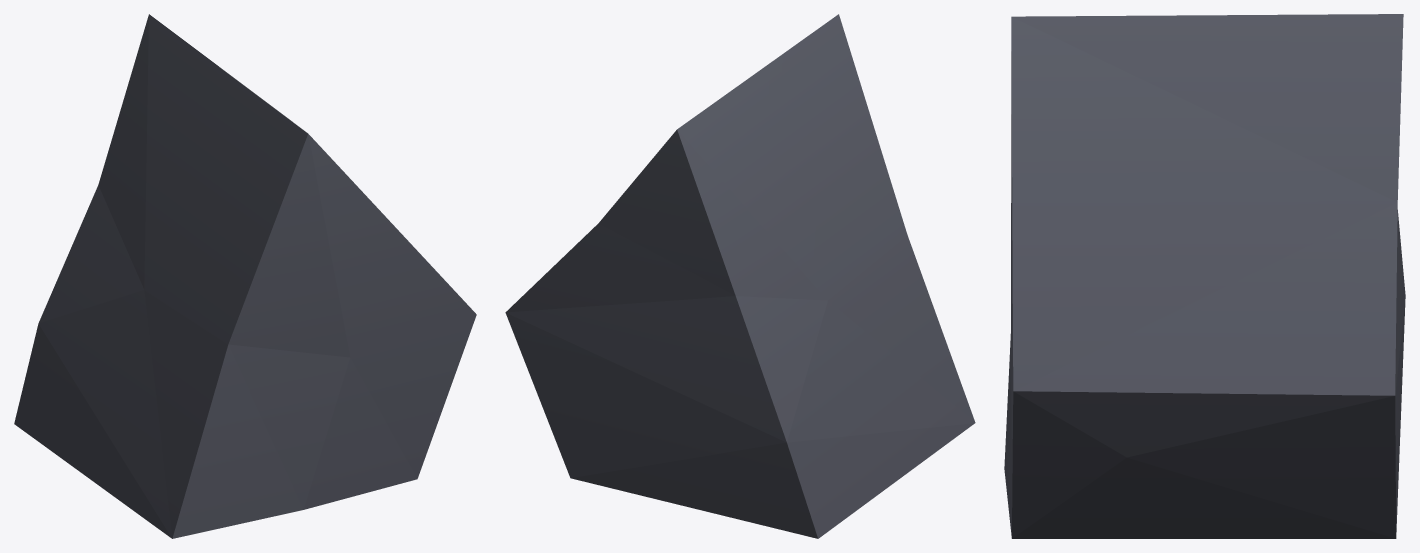
The model's file is Ruins_04.fbx.
3 renders of one model, left to right at view 1: azimuth 30°, elevation 25°; view 2: azimuth 150°, elevation 25°; view 3: azimuth 270°, elevation 25°, orthographic. The views are drawn at different scales.
Visible parts, largest first — view 1: Ruins_04; view 2: Ruins_04; view 3: Ruins_04.
Boxes of the visible parts, x1,y1,x2,y2 form: Ruins_04: (14,14,476,538); Ruins_04: (505,14,975,538); Ruins_04: (1004,14,1405,538).
Bounding box in the file's own units: 0.4827 × 0.5557 × 0.4395.
